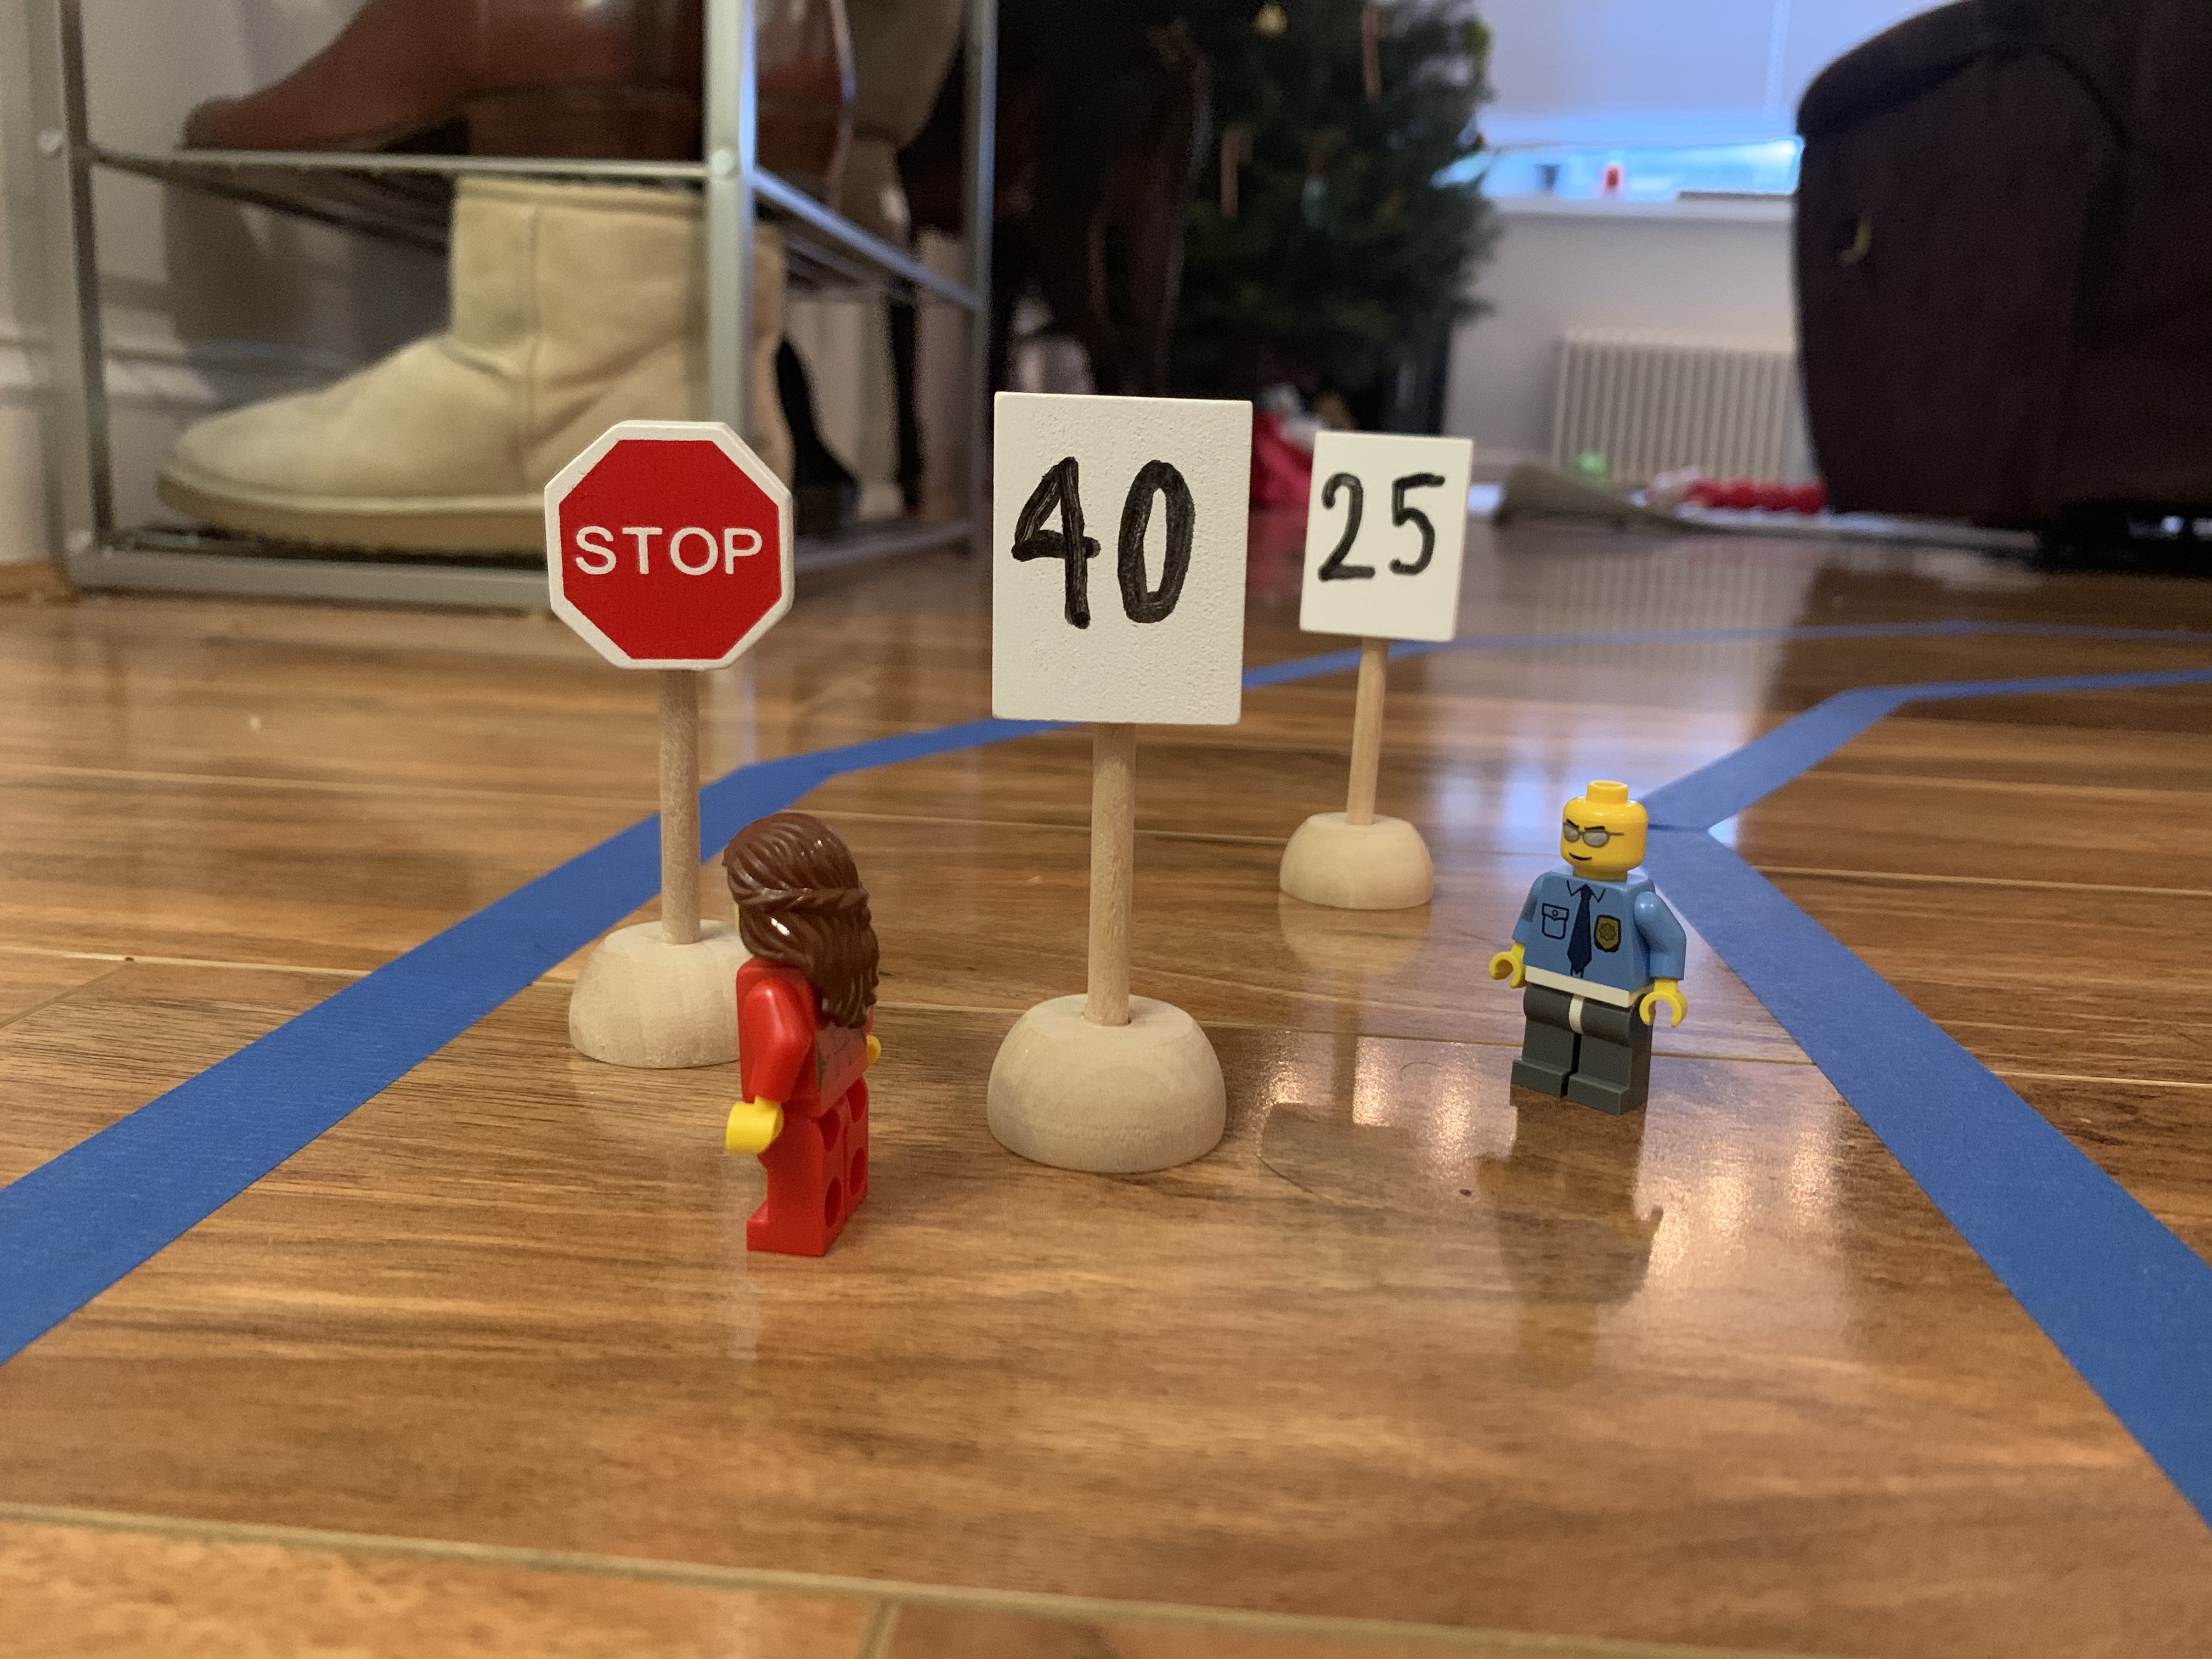Person: (716, 797, 898, 1267), (1482, 778, 1694, 1133)
Speed Limit 25: (1300, 427, 1464, 645)
Speed Limit 40: (994, 390, 1248, 729)
Stop Sign: (546, 415, 802, 675)
